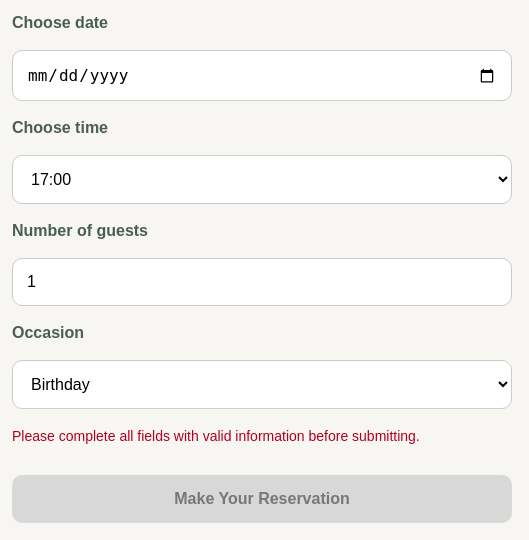
Test: submit button is enabled when the form is valid
In the date field labelled "Choose date": [262, 76] box [12,50,512,101], type "2026-09-27"
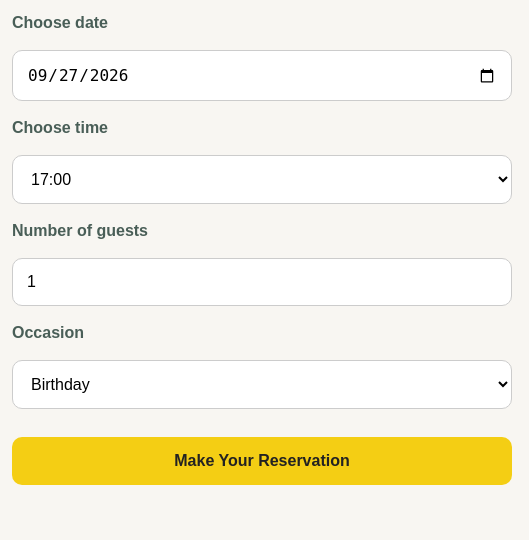
Expected: the button with aria-label "On Click" is enabled, [12,437,512,485]
